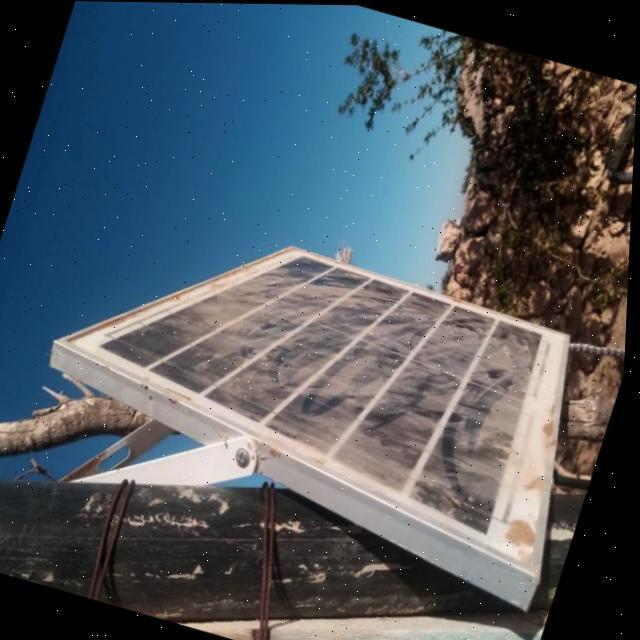Anomaly Solar Panel: (83, 245, 561, 549)
Surface Contaminant: (141, 300, 534, 524), (372, 288, 546, 397), (256, 248, 382, 348)
